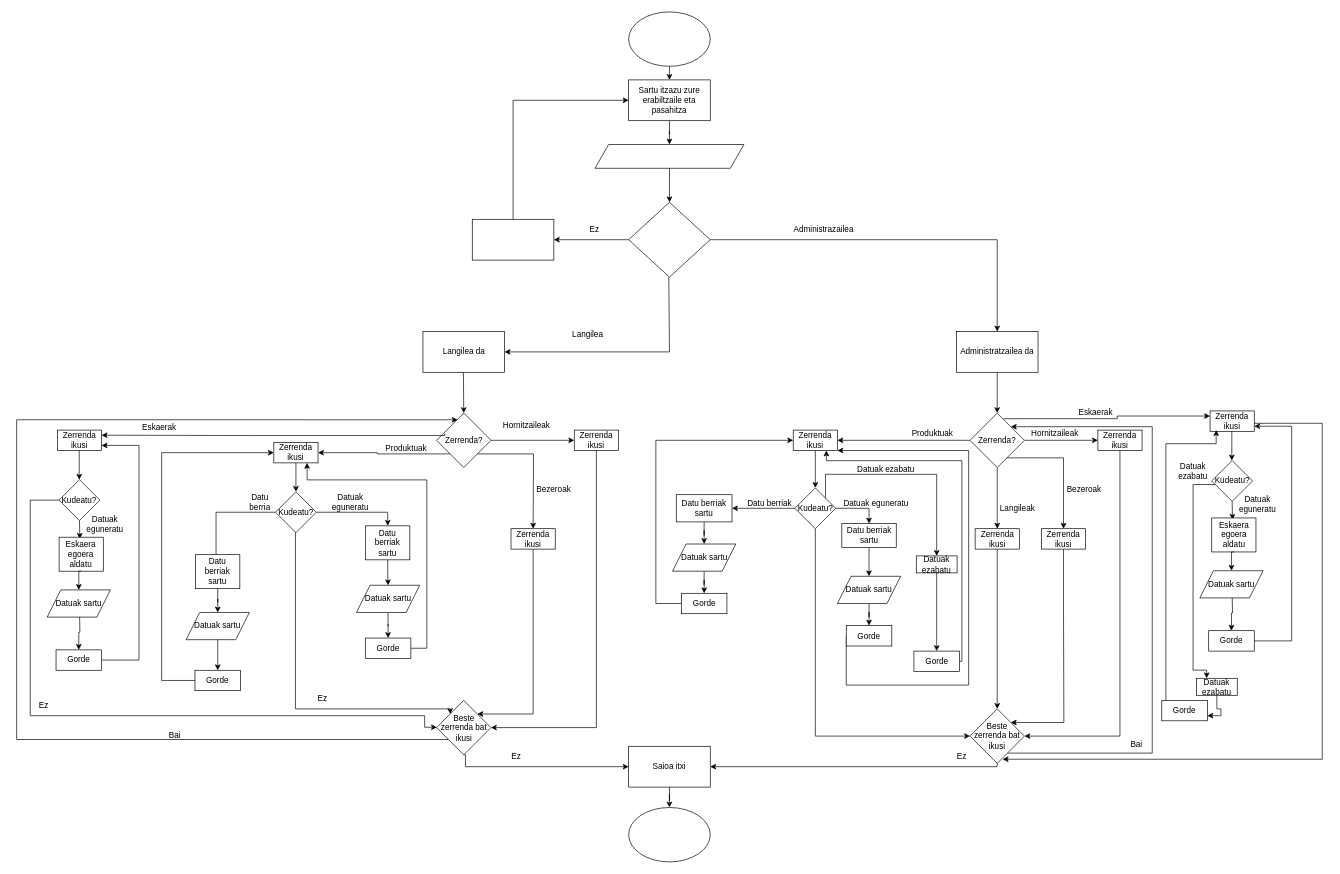
This 1340x874 diagram has some shape labels left out. The shapes that lost their labels are listed below. From the top down, each one's box as (x1, y1, x2, y2) in pixels, then its label:
(628, 11, 710, 66): Hasiera
(594, 144, 744, 168): Pasahitza eta erabiltzailea sartu
(472, 219, 554, 260): Erabiltzaile edo pasahitza okerrak dira
(628, 202, 710, 277): Erabiltzailea eta pasahitza zuzenak dira
(628, 807, 710, 862): Amaitu
